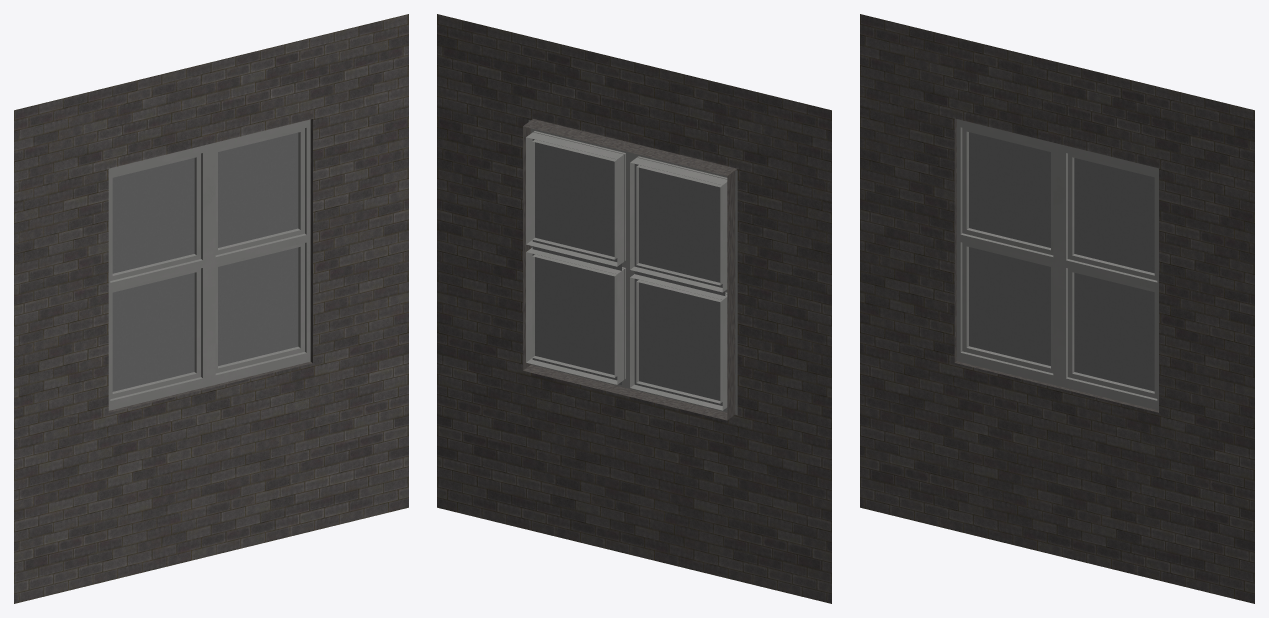
File: Sm_Window04c.fbx
The picture shows the model from 3 angles, left to right: view 1: azimuth 30°, elevation 25°; view 2: azimuth 150°, elevation 25°; view 3: azimuth 330°, elevation 25°; orthographic projection.
Parts seen in each view (by area): view 1: Sm_Window04c; view 2: Sm_Window04c; view 3: Sm_Window04c.
Part boxes in pixels (x1,y1,x2,y2): Sm_Window04c: (14, 14, 408, 603); Sm_Window04c: (437, 14, 831, 603); Sm_Window04c: (860, 14, 1254, 603).
Bounding box in the file's own units: 251 × 11.95 × 300.
Materials: 3 (3 with a texture image).
